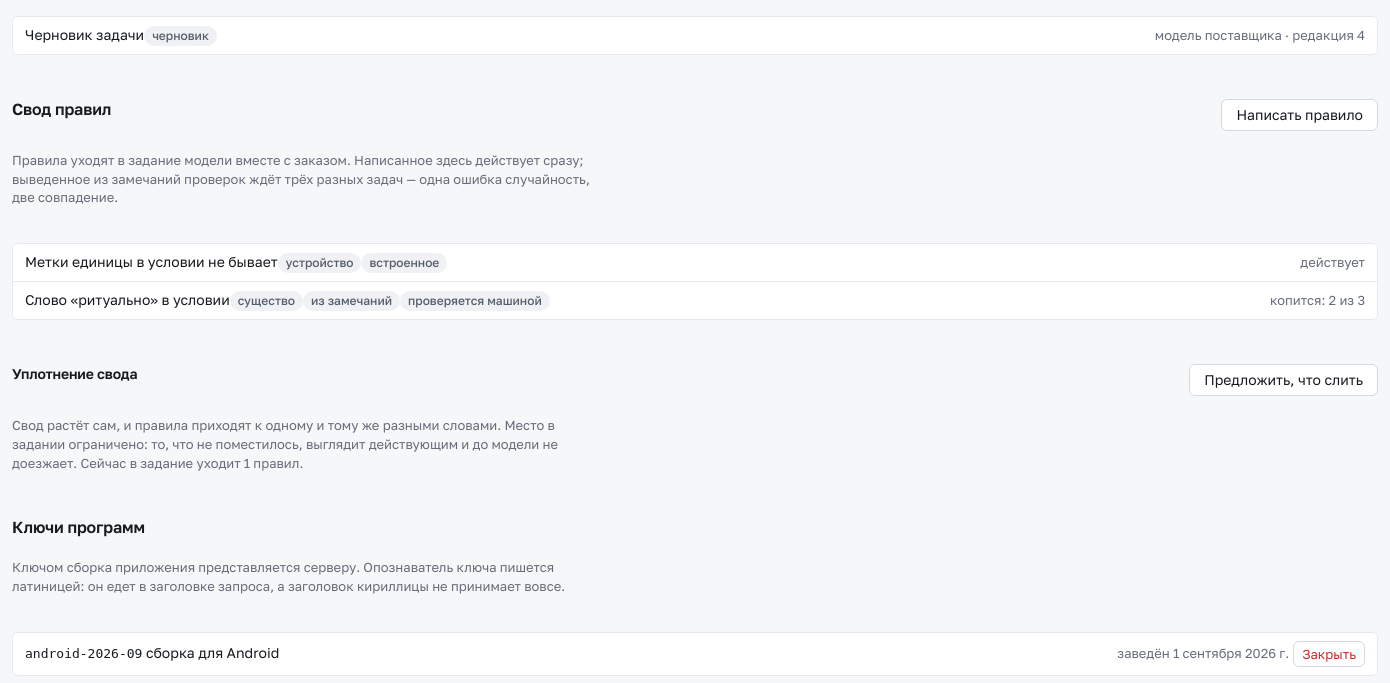
мастерская › форма проверки строится по каталогу сервера, а не по своему списку
(page scrolled)
Click the text "Слово «ритуально» в условии".
click(287, 301)  # box x1=25 y1=290 x2=550 y2=311
(page scrolled)
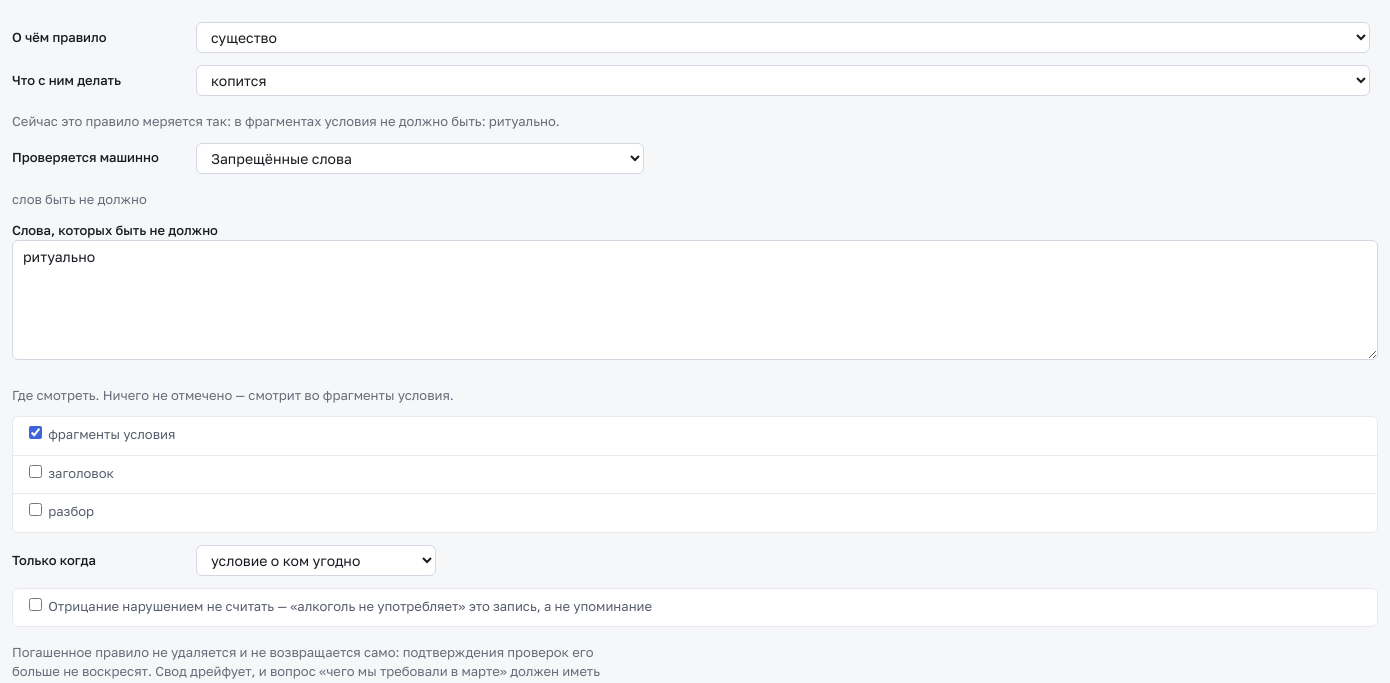
Check: the dropdown labelled "Проверяется машинно" shows "Запрещённые слова", box x1=196 y1=143 x2=644 y2=174
Check: the text box showing "ритуально" is shown, box x1=12 y1=240 x2=1378 y2=360
